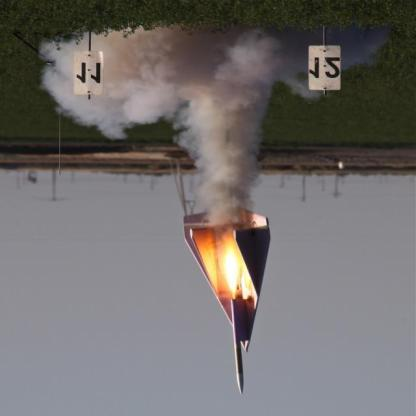MIL_TBM: (230, 299, 244, 397)
